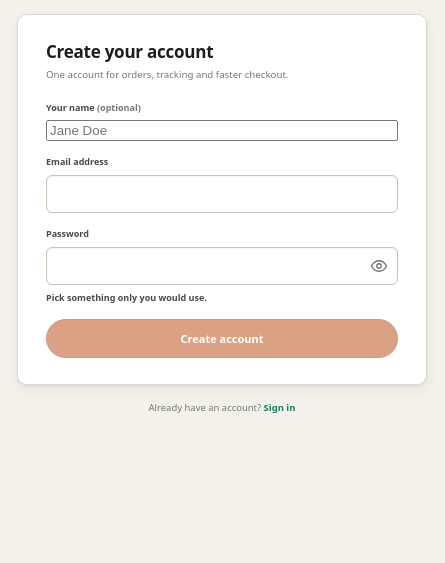
RegisterPage › falls back to its own message when the failure is not an Error
Type "new@example.com" into the field labelled "Email address" at point(222, 194), box [46,175,398,213]
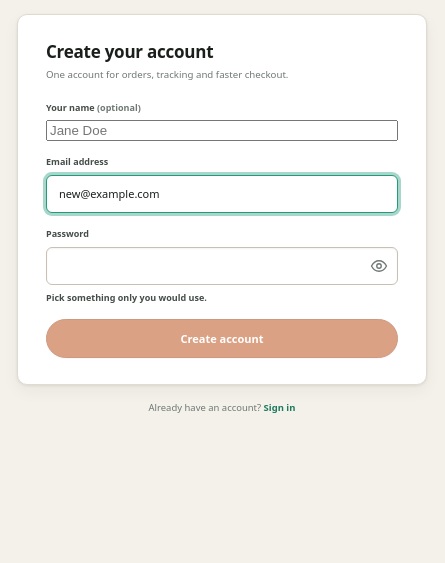
Type "Str0ng!Passw0rd" into the password field labelled "Password" at point(222, 266), box [46,247,398,285]
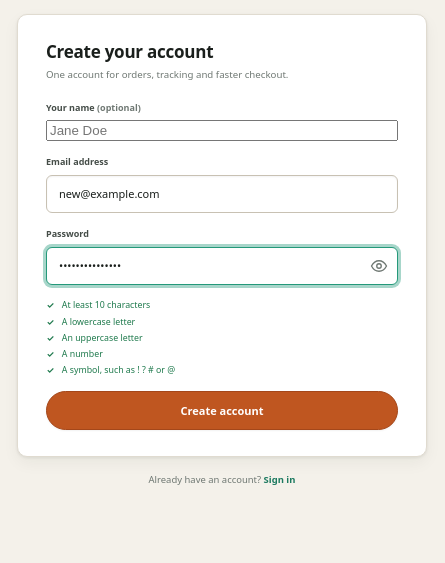
Click the button "Create account" at point(222, 411), box [46,391,398,430]
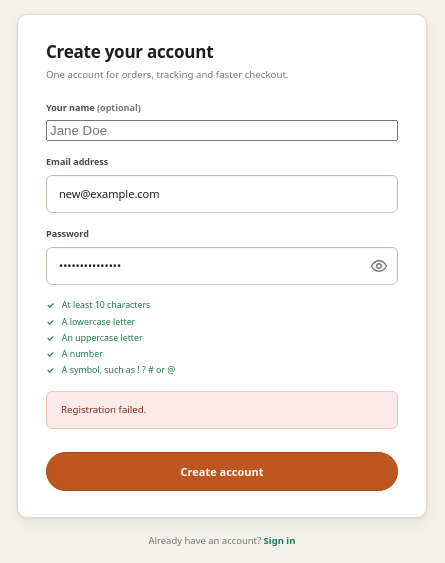
Now the text "Registration failed." is shown, box [46,391,398,429]
